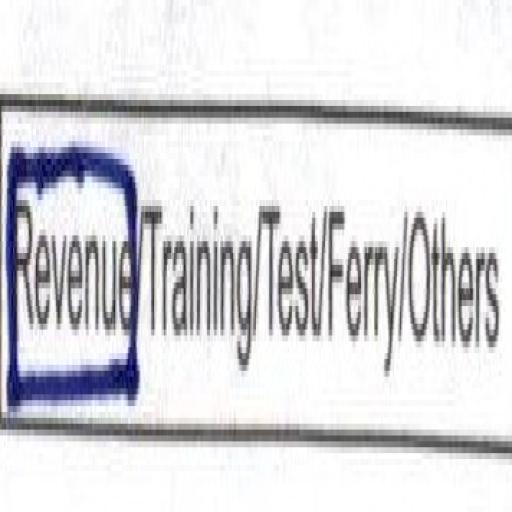check: (0, 81, 140, 469)
